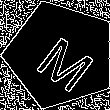M_NE: (25, 21, 96, 89)
